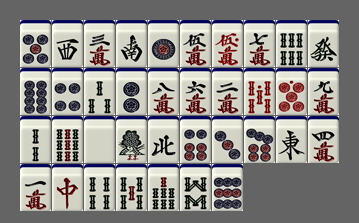0m: (212, 20, 243, 67)
0p: (276, 68, 307, 115)
0s: (244, 68, 275, 115)
1m: (20, 164, 51, 211)
1p: (148, 20, 179, 67)
1s: (116, 116, 147, 163)
1z: (276, 116, 307, 163)
2m: (212, 68, 243, 115)
2p: (116, 68, 147, 115)
2s: (20, 116, 51, 163)
2z: (116, 20, 147, 67)
3m: (84, 20, 115, 67)
3p: (212, 116, 243, 163)
3s: (84, 68, 115, 115)
3z: (52, 20, 83, 67)
4m: (308, 116, 339, 163)
4p: (52, 68, 83, 115)
4s: (84, 164, 115, 211)
4z: (148, 116, 179, 163)
5m: (180, 20, 211, 67)
5p: (20, 20, 51, 67)
5s: (116, 164, 147, 211)
5z: (84, 116, 115, 163)
6m: (180, 68, 211, 115)
6p: (180, 116, 211, 163)
6s: (276, 20, 307, 67)
6z: (308, 20, 339, 67)
7m: (244, 20, 275, 67)
7p: (244, 116, 275, 163)
7s: (148, 164, 179, 211)
7z: (52, 164, 83, 211)
8m: (148, 68, 179, 115)
8p: (20, 68, 51, 115)
8s: (180, 164, 211, 211)
9m: (308, 68, 339, 115)
9p: (212, 164, 243, 211)
9s: (52, 116, 83, 163)
